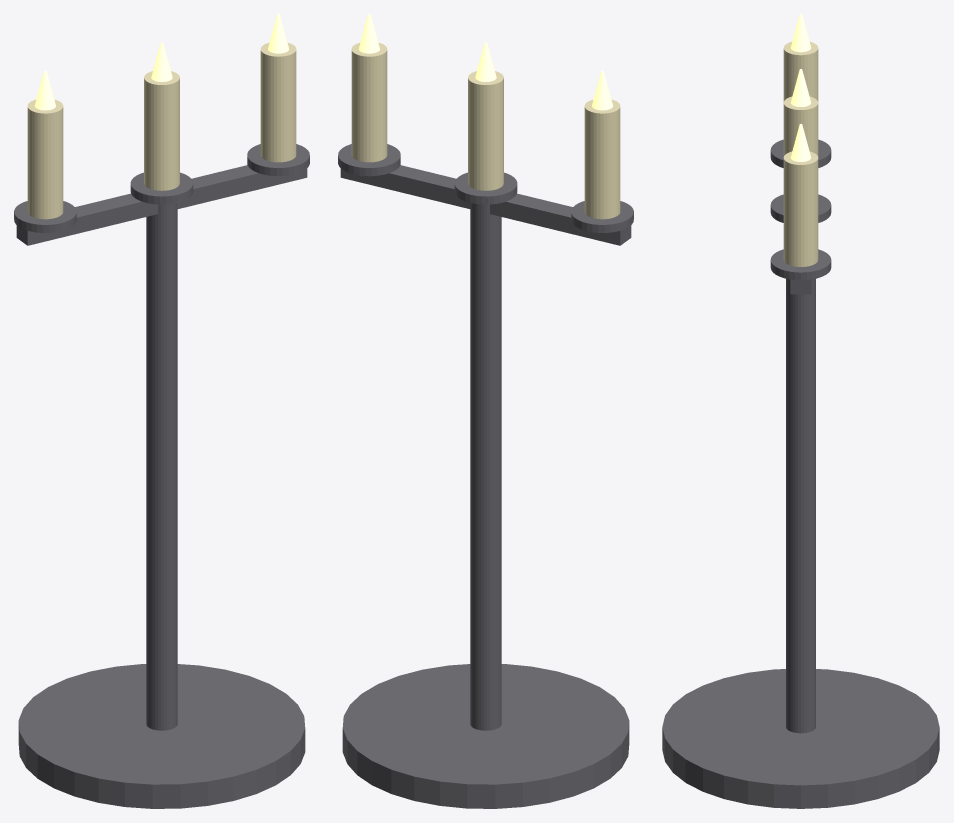
The model's file is candle_candelabra.glb.
3 renders of one model, left to right at view 1: azimuth 30°, elevation 25°; view 2: azimuth 150°, elevation 25°; view 3: azimuth 270°, elevation 25°, orthographic. The views are drawn at different scales.
Parts seen in each view (by area): view 1: Cylinder, Cylinder.001, Cube, Cylinder.007, Cylinder.003, Cylinder.005, Cylinder.004, Cylinder.002, Cylinder.006; view 2: Cylinder, Cylinder.001, Cube, Cylinder.007, Cylinder.003, Cylinder.005, Cylinder.004, Cylinder.002, Cylinder.006; view 3: Cylinder, Cylinder.001, Cylinder.007, Cylinder.003, Cylinder.005, Cylinder.006, Cylinder.004, Cylinder.002.
Part boxes in pixels (x1,y1,x2,y2): Cylinder: (18, 664, 305, 808); Cylinder.001: (146, 203, 177, 730); Cube: (16, 165, 307, 245); Cylinder.007: (260, 42, 296, 162); Cylinder.003: (27, 99, 63, 219); Cylinder.005: (144, 71, 179, 190); Cylinder.004: (130, 172, 193, 204); Cylinder.002: (14, 201, 76, 232); Cylinder.006: (247, 144, 309, 176); Cylinder: (342, 664, 629, 808); Cylinder.001: (470, 203, 501, 730); Cube: (340, 165, 631, 245); Cylinder.007: (351, 42, 387, 162); Cylinder.003: (584, 99, 620, 219); Cylinder.005: (468, 71, 503, 190); Cylinder.004: (454, 172, 517, 204); Cylinder.002: (571, 201, 633, 232); Cylinder.006: (338, 144, 400, 176); Cylinder: (662, 669, 939, 808); Cylinder.001: (786, 278, 815, 733); Cylinder.007: (783, 151, 818, 266); Cylinder.003: (783, 41, 818, 101); Cylinder.005: (783, 96, 818, 156); Cylinder.006: (770, 249, 831, 280); Cylinder.004: (770, 194, 831, 222); Cylinder.002: (770, 139, 831, 167).
Bounding box in the file's own units: 0.74 × 1.74 × 0.64.
